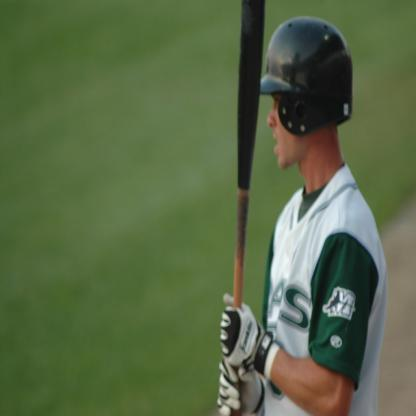Helmet: (260, 25, 348, 141)
